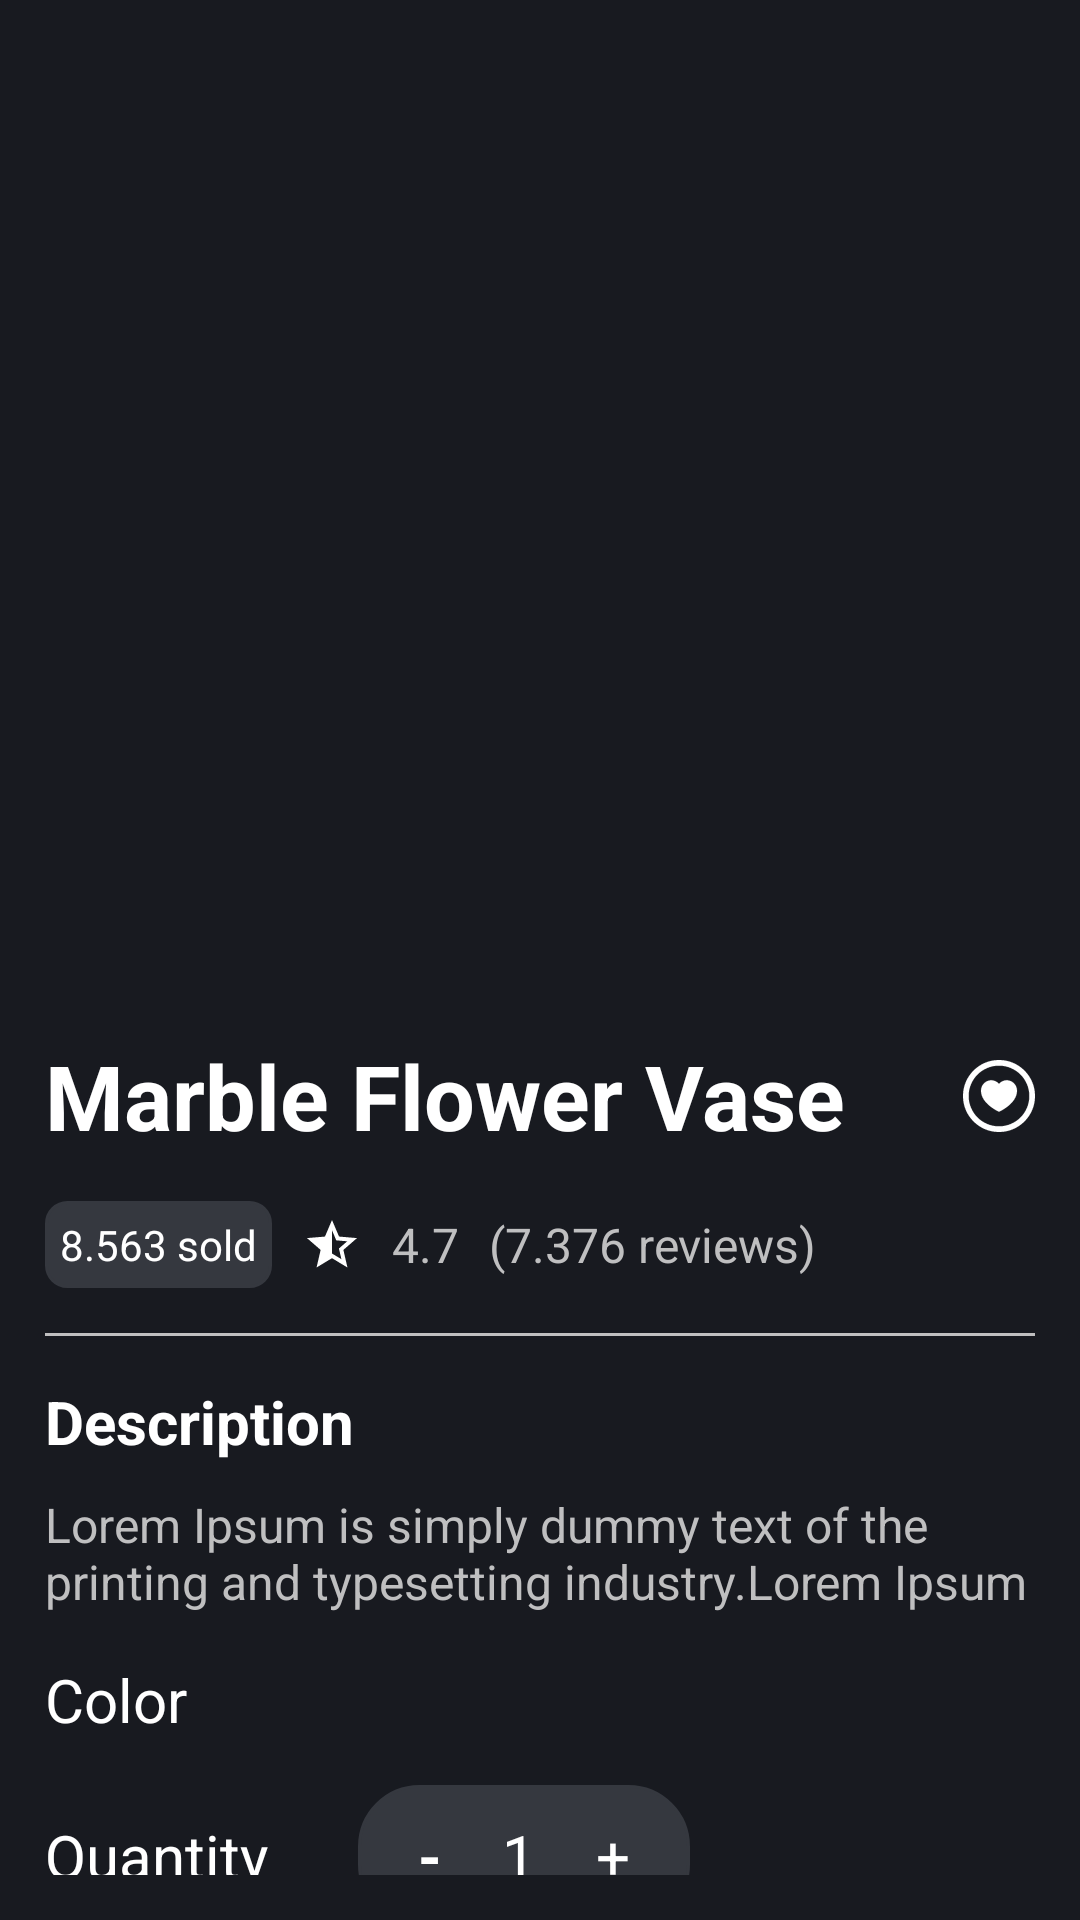

Screen size 1080×1920. Icon name, then its box in pixels as box=[x1, y1, x2, y2]:
heart: box=[963, 1060, 1035, 1132]
star: box=[307, 1220, 357, 1268]
